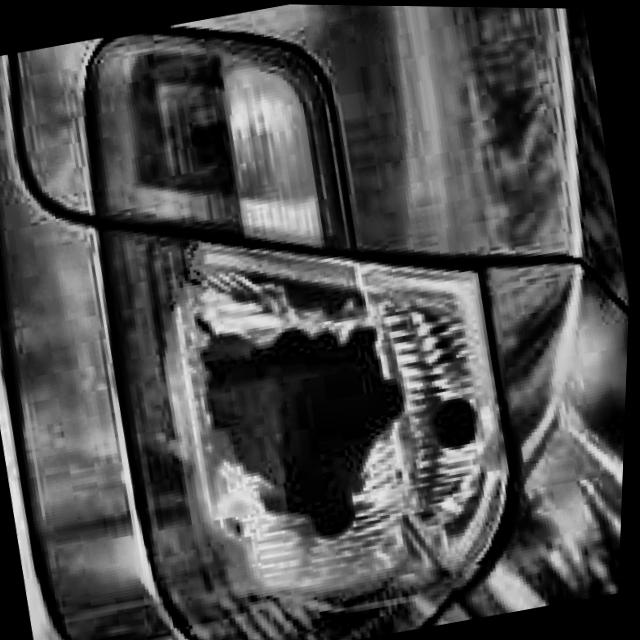tail_lamp: (170, 286, 443, 577)
